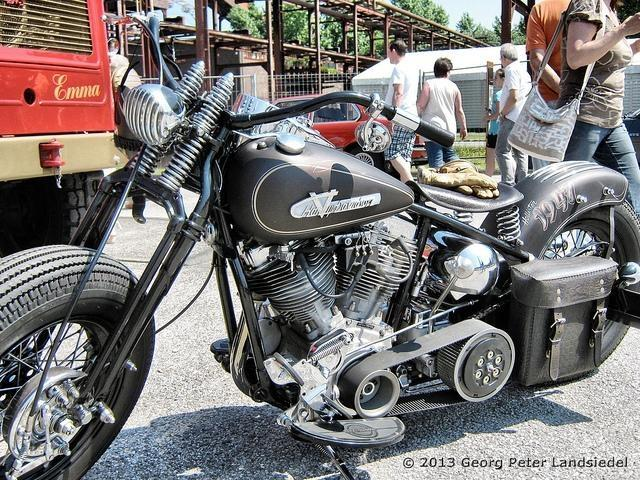car: (270, 96, 392, 150), (619, 104, 640, 170)
motorcycle: (0, 6, 640, 476)
truck: (0, 0, 128, 256)
